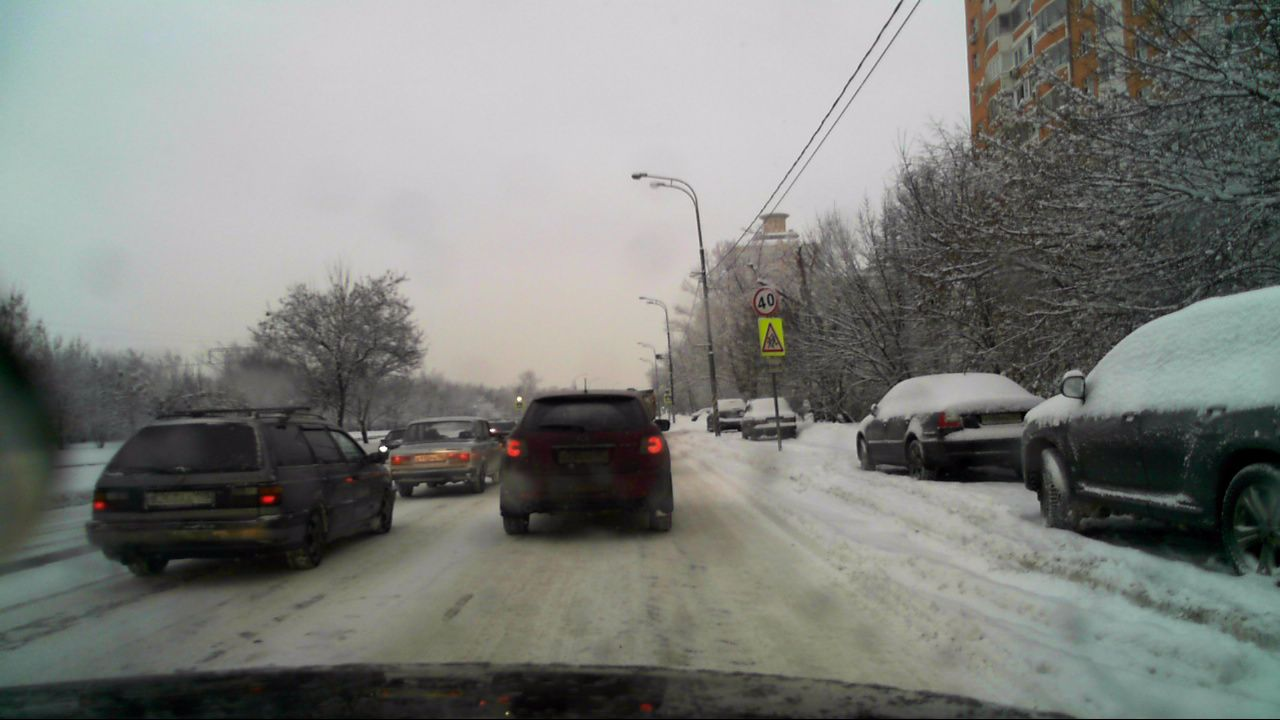speed_warning_40: (751, 287, 777, 316)
